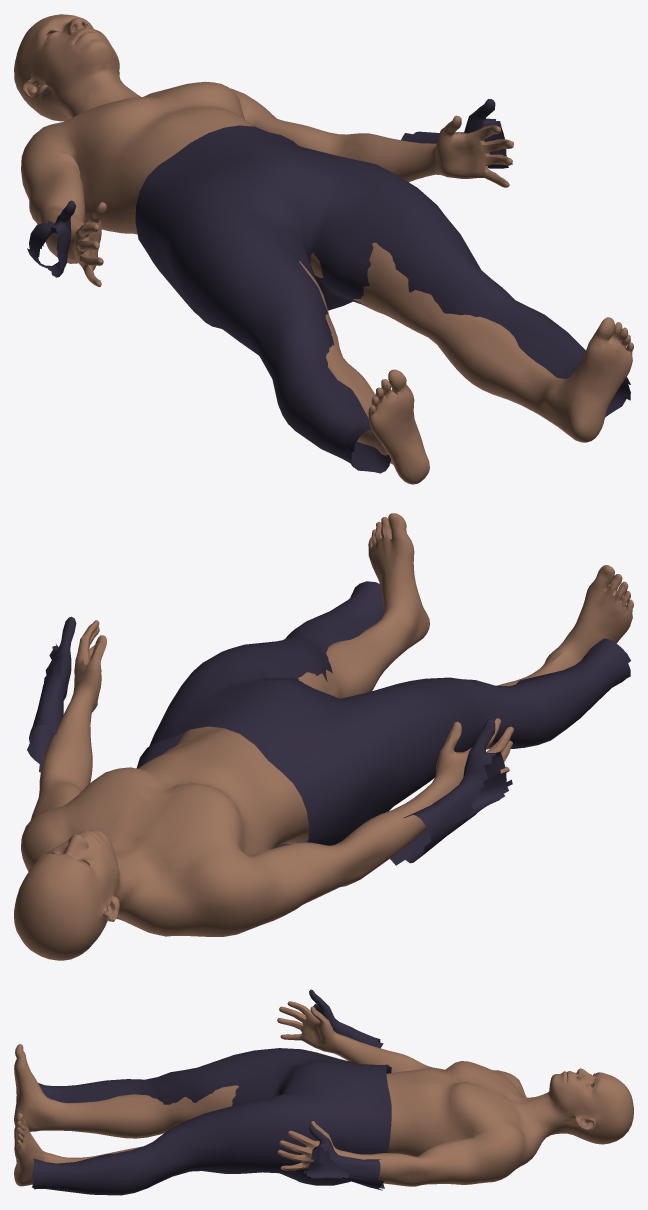
The model's file is echo.glb.
3 views of the same model, one above another, from view 1: azimuth 30°, elevation 25°; view 2: azimuth 150°, elevation 25°; view 3: azimuth 270°, elevation 25° (orthographic). The views are drawn at different scales.
Parts seen in each view (by area): view 1: V36_Echo_Cloak, V36_RealisticAnatomicalBody; view 2: V36_RealisticAnatomicalBody, V36_Echo_Cloak; view 3: V36_RealisticAnatomicalBody, V36_Echo_Cloak.
Part boxes in pixels (<box>): V36_Echo_Cloak: <box>27,99,630,473</box>; V36_RealisticAnatomicalBody: <box>14,14,633,484</box>; V36_RealisticAnatomicalBody: <box>14,513,633,960</box>; V36_Echo_Cloak: <box>27,581,630,865</box>; V36_RealisticAnatomicalBody: <box>14,1001,633,1186</box>; V36_Echo_Cloak: <box>31,989,391,1195</box>.
Size of the model in its own units: 2.2 by 0.8071 by 3.95.
